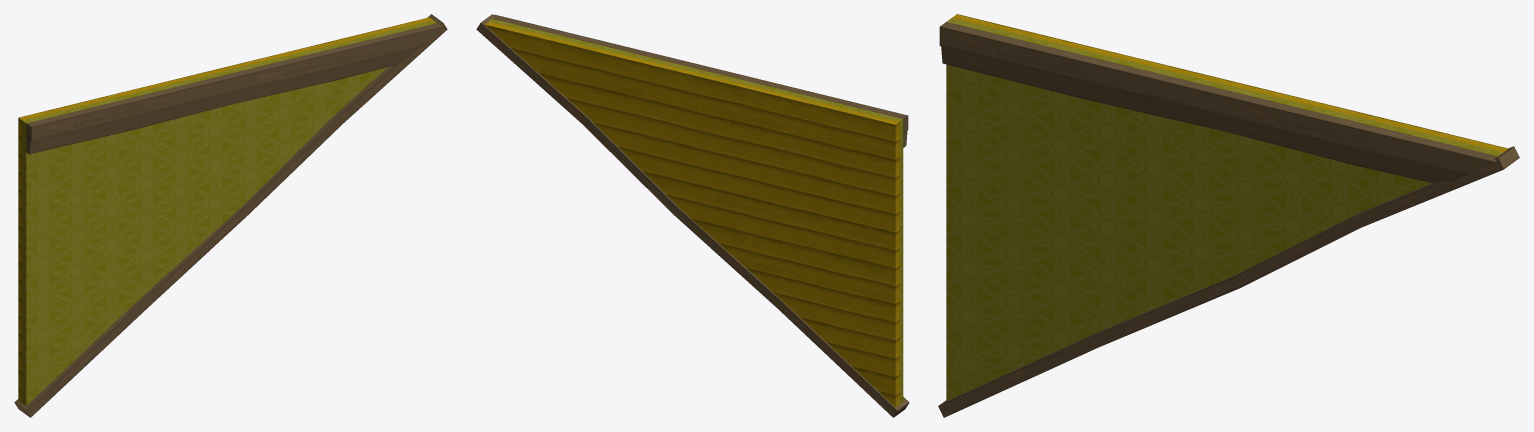
Rendered from SM_building_wall_18.glb.
The picture shows the model from 3 angles, left to right: view 1: azimuth 30°, elevation 25°; view 2: azimuth 150°, elevation 25°; view 3: azimuth 330°, elevation 25°; orthographic projection. The views are drawn at different scales.
Visible parts, largest first — view 1: SM_building_wall_18; view 2: SM_building_wall_18; view 3: SM_building_wall_18.
Boxes of the visible parts, x1,y1,x2,y2 form: SM_building_wall_18: [14, 14, 447, 417]; SM_building_wall_18: [476, 14, 909, 417]; SM_building_wall_18: [938, 14, 1519, 417].
Size of the model in its own units: 6.11 by 4.08 by 0.3482.
3 materials, 3 textured.
